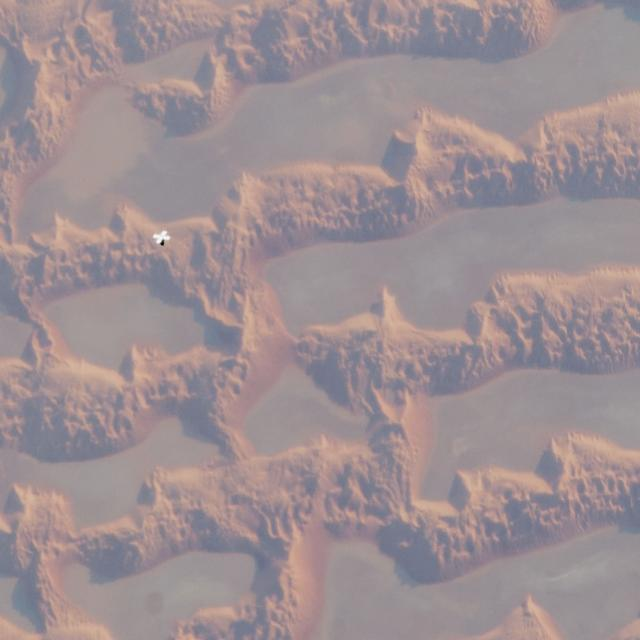satellite: (151, 227, 178, 252)
